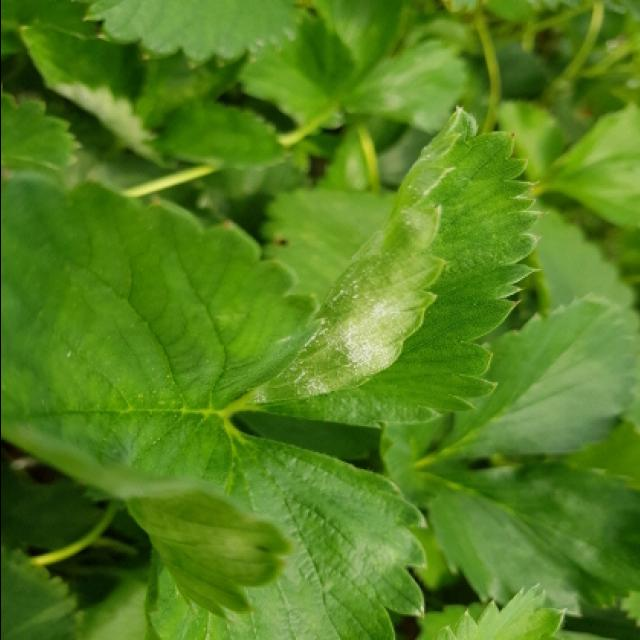Powdery Mildew Leaf: (229, 102, 545, 428)
